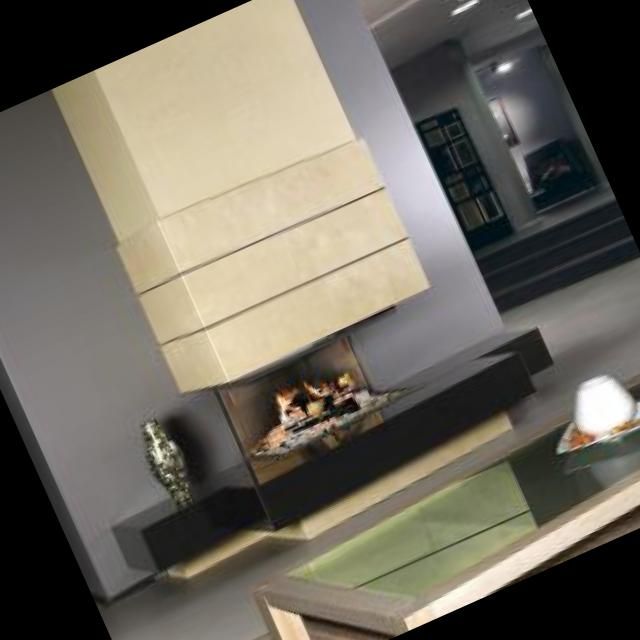fire: (256, 352, 378, 444)
